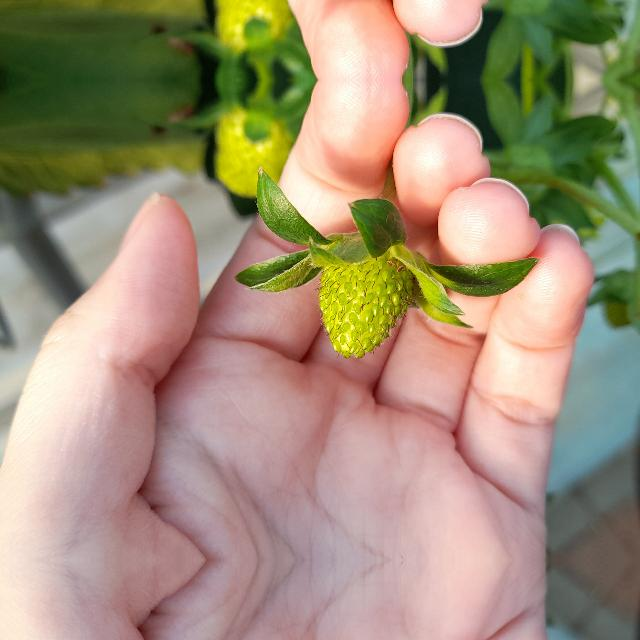Health_25: (315, 249, 413, 359)
